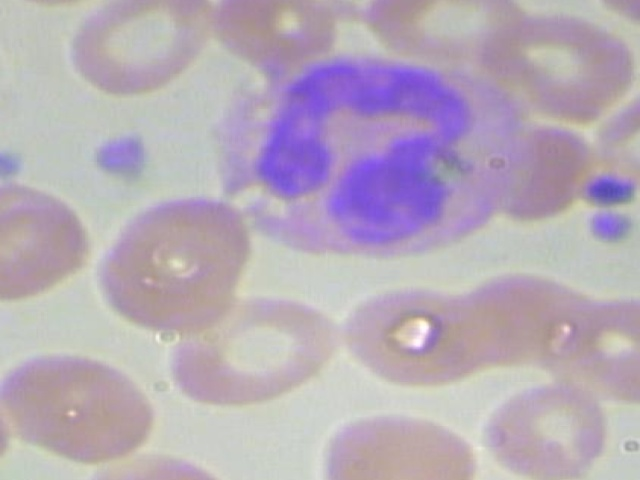Platelets: (80, 130, 166, 189), (579, 203, 640, 255), (581, 167, 640, 207), (0, 137, 28, 189)
RBC: (162, 284, 345, 419), (86, 191, 269, 326), (479, 4, 640, 128), (0, 349, 158, 467), (52, 0, 222, 102), (340, 283, 501, 389), (472, 373, 615, 480), (325, 399, 486, 480), (370, 0, 522, 79), (540, 295, 640, 407), (0, 196, 96, 304), (578, 78, 640, 202), (0, 367, 17, 480)
WBC: (211, 47, 534, 264)
